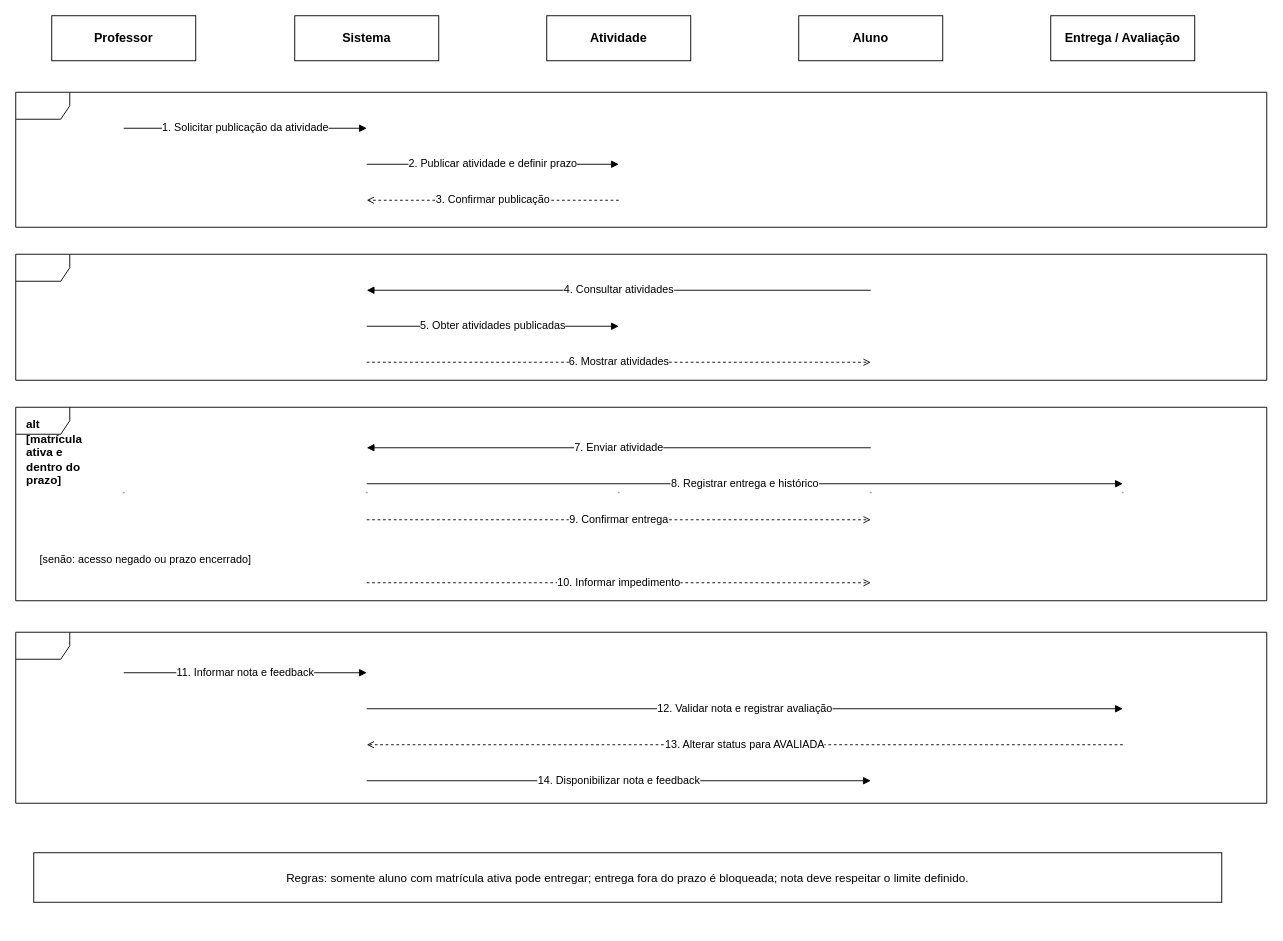
This 1283x941 diagram has some shape labels left out. Each missing label, with the centre of its shape:
loop [para cada atividade disponível]: pixel 641 316
opt [entrega registrada para avaliação]: pixel 641 717
opt [professor responsável]: pixel 641 159
